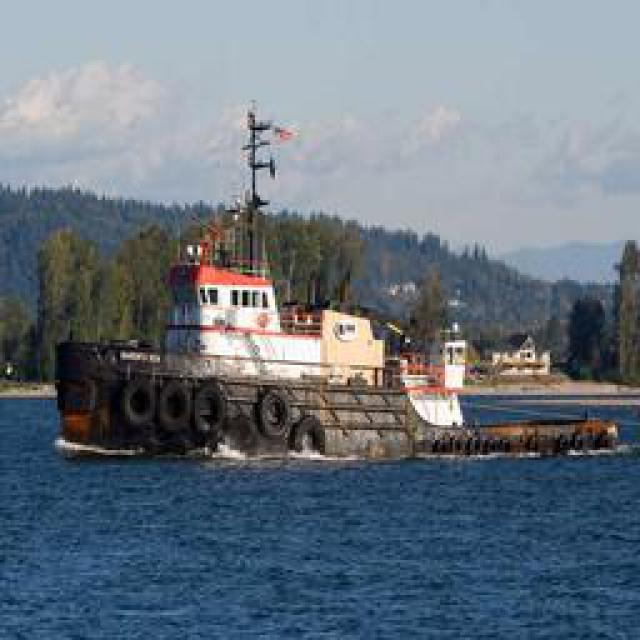Ship: (56, 92, 586, 455)
